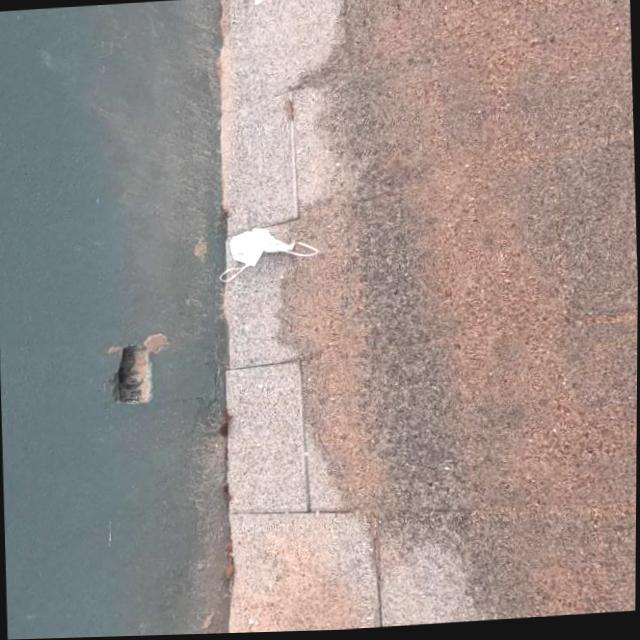Mask: (221, 218, 305, 295)
